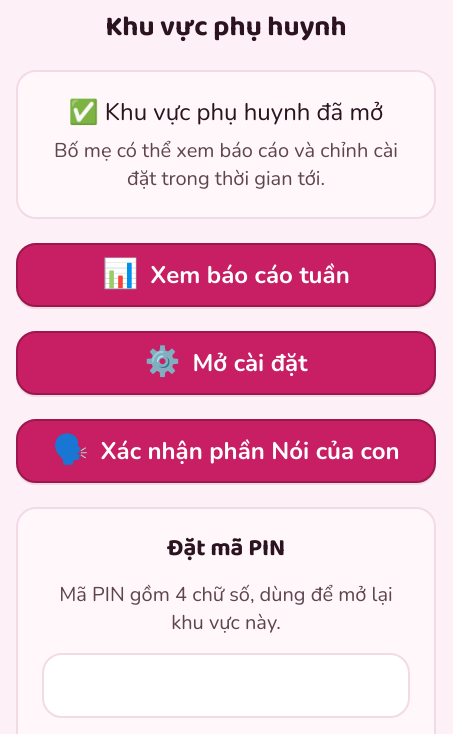
Scenario: ParentGatePage — mở báo cáo tuần › ⚠️ báo cáo trả 403 (cổng hết hạn) ⇒ QUAY VỀ màn nhập PIN, KHÔNG hiện lỗi kỹ thuật
What coordinates should you click on to do the following:
click the button "📊 Xem báo cáo tuần"
I would click on:
 (226, 275)
Its box is [16, 243, 436, 307].
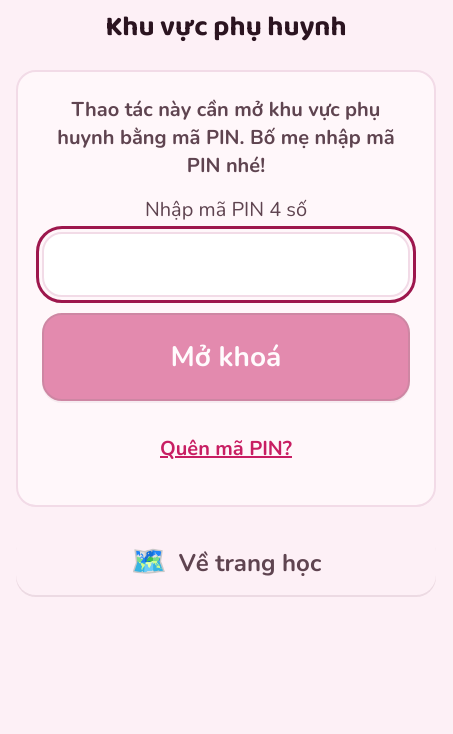
Now the password field labelled "Nhập mã PIN" is shown, box [42, 232, 410, 297]
Now the message reads "Thao tác này cần mở khu vực phụ huynh bằng mã PIN. Bố mẹ nhập mã PIN nhé!", box [57, 96, 395, 179]
